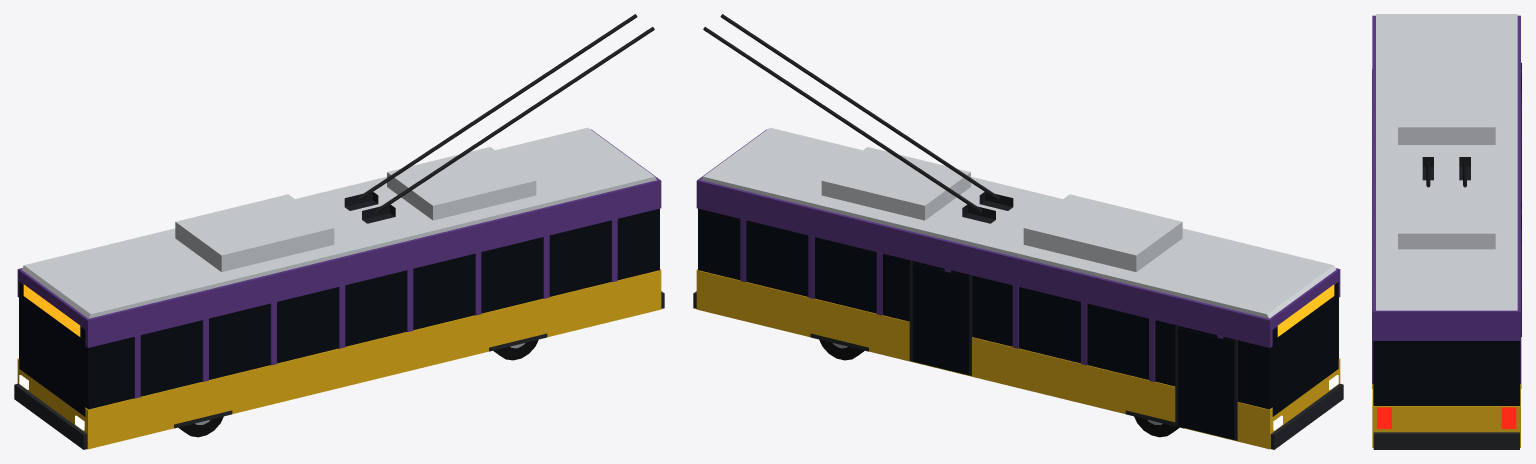
The model's file is trolley40.glb.
3 renders of one model, left to right at view 1: azimuth 30°, elevation 25°; view 2: azimuth 150°, elevation 25°; view 3: azimuth 270°, elevation 25°, orthographic. The views are drawn at different scales.
Parts seen in each view (by area): view 1: trolley40; view 2: trolley40; view 3: trolley40.
Part boxes in pixels (<box>): trolley40: <box>14,14,664,449</box>; trolley40: <box>693,14,1343,449</box>; trolley40: <box>1372,14,1521,449</box>.
Bounding box in the file's own units: 12.69 × 5.57 × 2.61.
